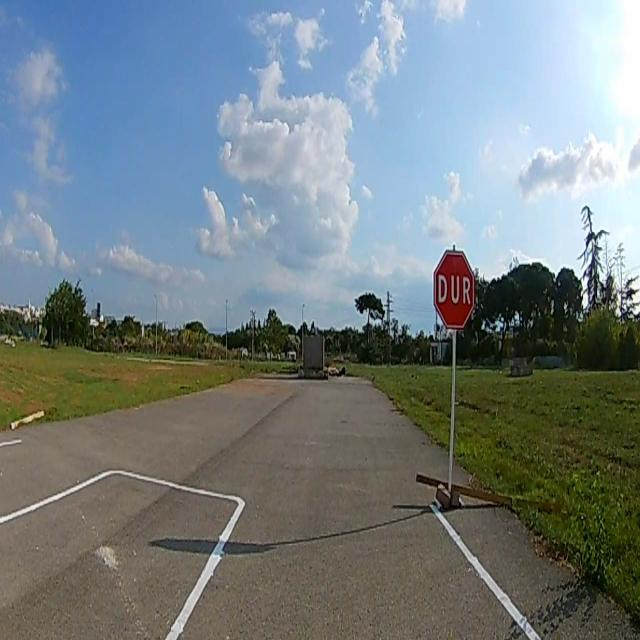dur: (433, 252, 473, 328)
